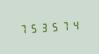five: (27, 21, 36, 34), (48, 20, 57, 33)
four: (68, 18, 77, 32)
seven: (17, 22, 26, 35), (58, 19, 67, 32)
three: (38, 20, 47, 34)
